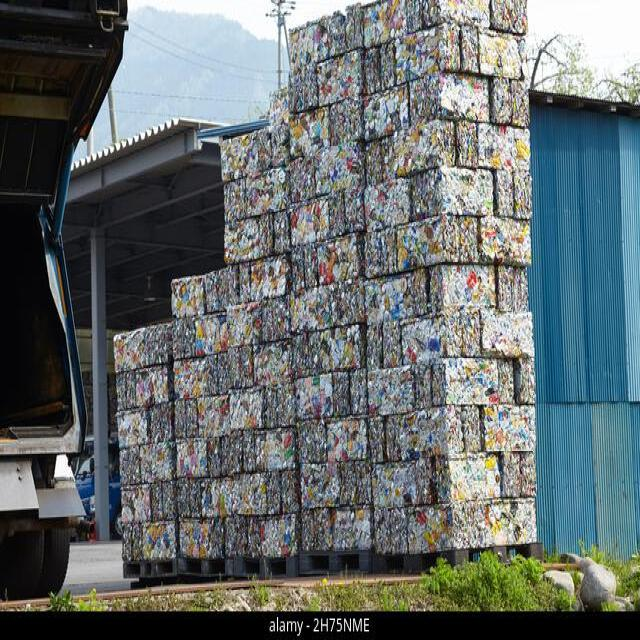trash: (121, 9, 533, 567)
